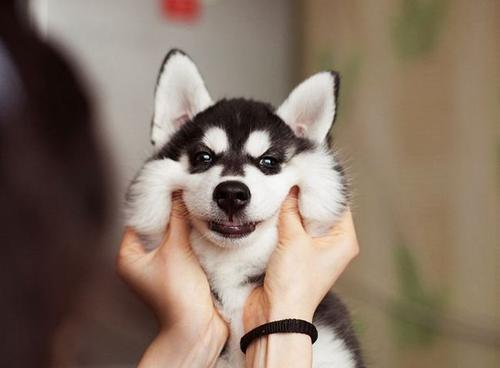dog: (122, 49, 374, 270)
